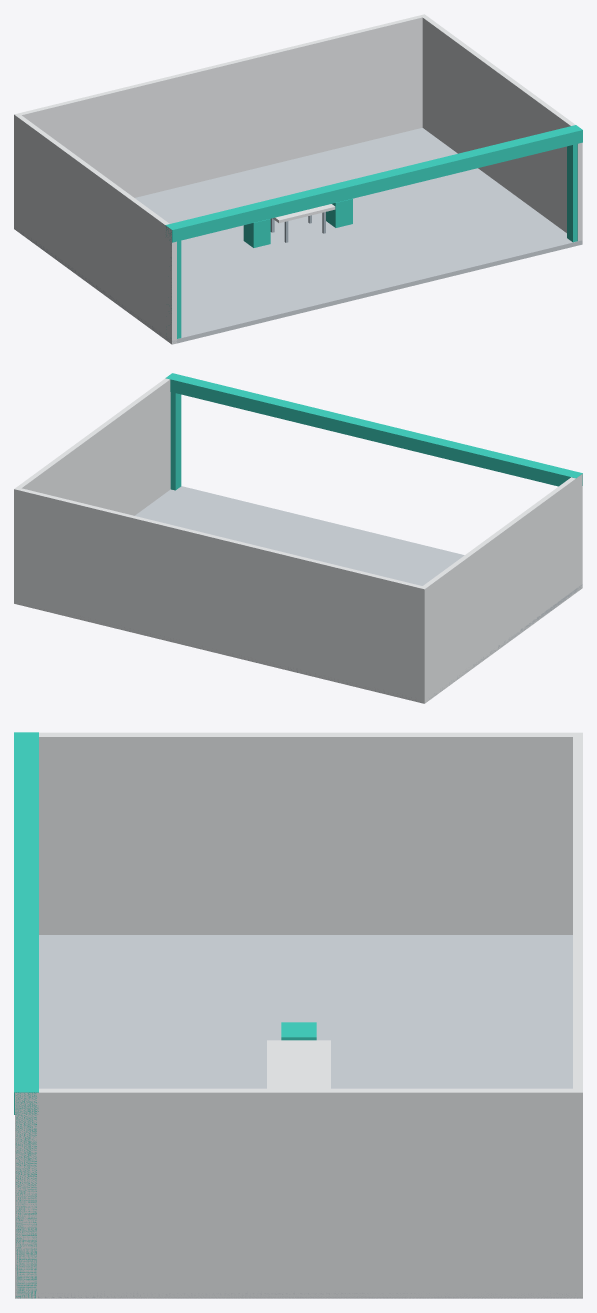
3 renders of one model, top to bottom at view 1: azimuth 30°, elevation 25°; view 2: azimuth 150°, elevation 25°; view 3: azimuth 270°, elevation 25°, orthographic. The views are drawn at different scales.
Visible parts, largest first — view 1: Exhibition Booth Concept; view 2: Exhibition Booth Concept; view 3: Exhibition Booth Concept.
Part boxes in pixels (box(x1,y1,x2,y2)): Exhibition Booth Concept: box(14, 14, 582, 344); Exhibition Booth Concept: box(14, 373, 582, 703); Exhibition Booth Concept: box(14, 732, 582, 1298).
Bounding box in the file's own units: 12 × 3.2 × 8.01.
